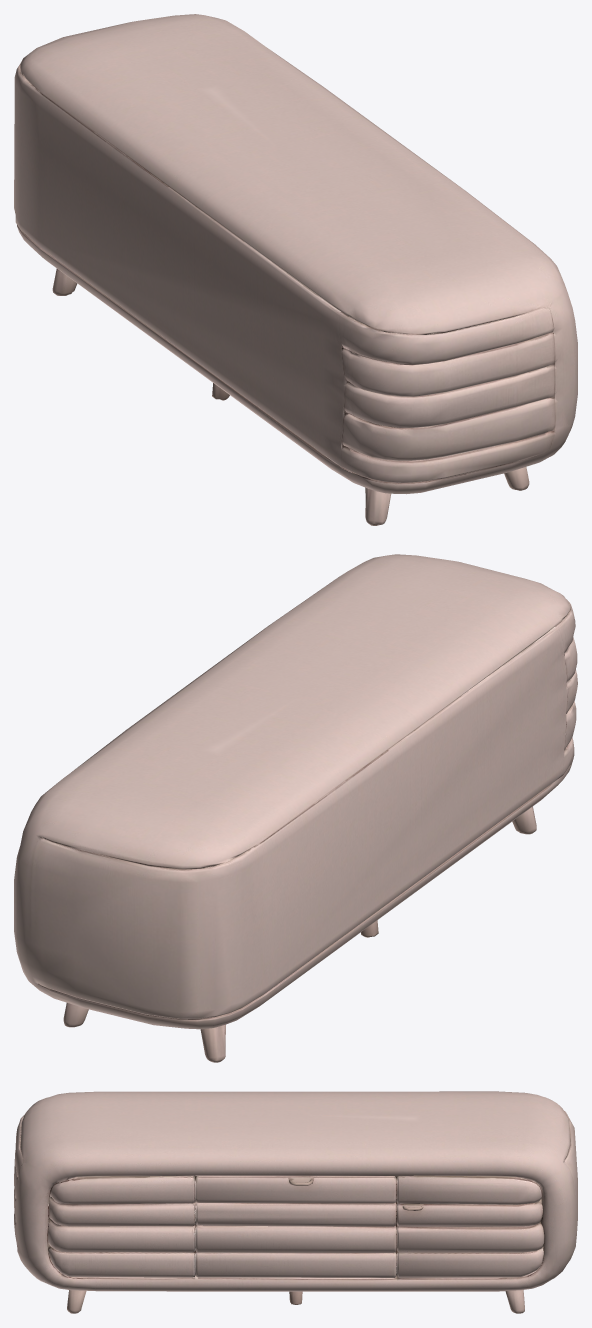
The model's file is pink+sofa+3d+model.glb.
The picture shows the model from 3 angles, top to bottom: view 1: azimuth 30°, elevation 25°; view 2: azimuth 150°, elevation 25°; view 3: azimuth 270°, elevation 25°; orthographic projection. The views are drawn at different scales.
Parts seen in each view (by area): view 1: tripo_node_7955b39d-11cd-4cae-a8b5-6ea05a0af09d; view 2: tripo_node_7955b39d-11cd-4cae-a8b5-6ea05a0af09d; view 3: tripo_node_7955b39d-11cd-4cae-a8b5-6ea05a0af09d.
Part boxes in pixels (x1=…): tripo_node_7955b39d-11cd-4cae-a8b5-6ea05a0af09d: x1=14, y1=14, x2=577, y2=525; tripo_node_7955b39d-11cd-4cae-a8b5-6ea05a0af09d: x1=14, y1=554, x2=577, y2=1062; tripo_node_7955b39d-11cd-4cae-a8b5-6ea05a0af09d: x1=14, y1=1091, x2=577, y2=1313.
Bounding box in the file's own units: 0.3301 × 0.3301 × 0.998.
1 material, 1 textured.
